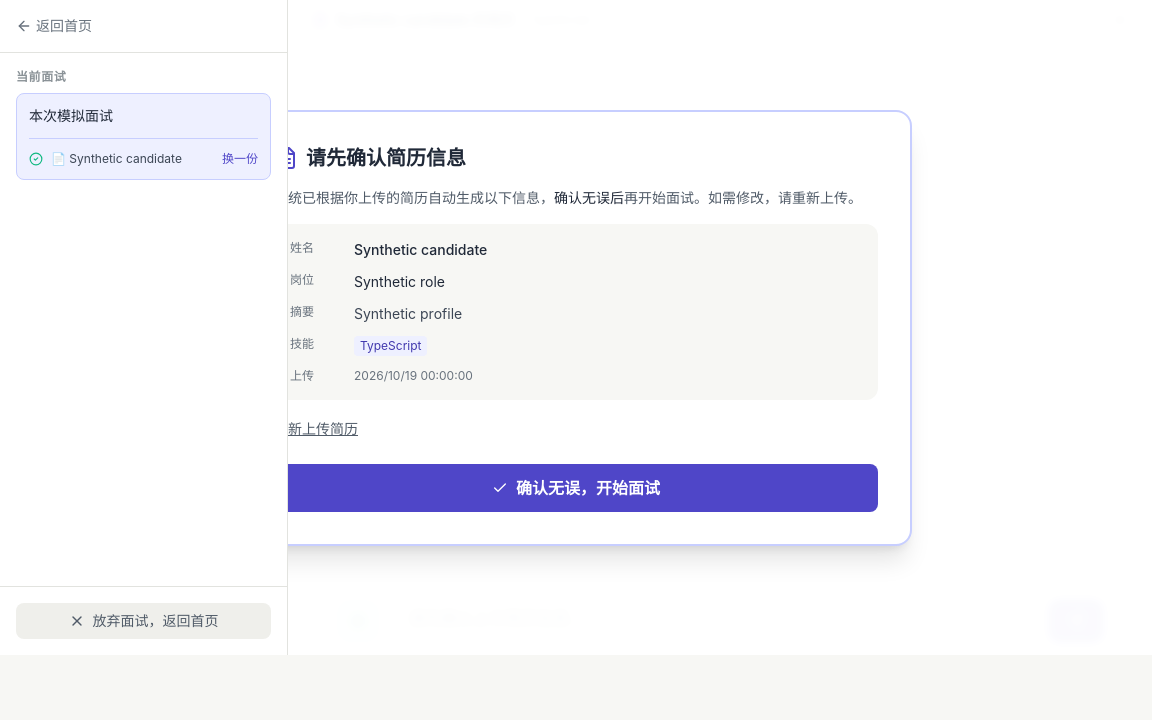
Interview resume confirmation receipt › keeps the interview locked on forbidden and displays a recoverable error
This screenshot has width=1152, height=720.
Click the button "确认无误，开始面试" at (576, 488), box [274,464,878,512]
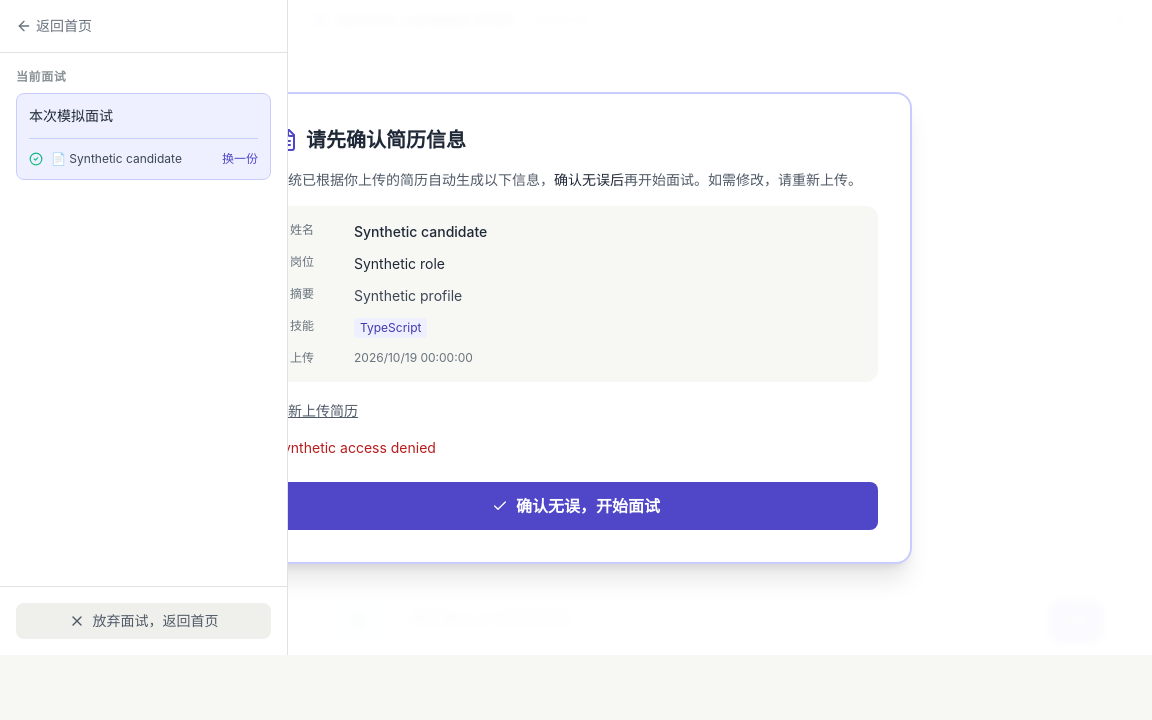
Check: the button "确认无误，开始面试" is enabled, box [274,482,878,530]
Check: the message reads "Synthetic access denied", box [274,438,436,456]
